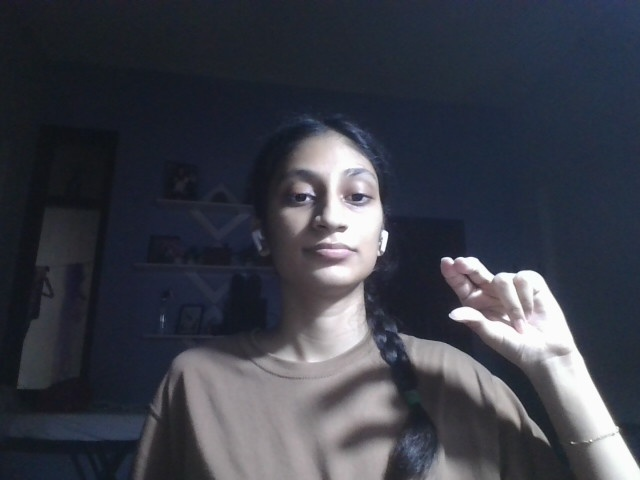no: (439, 256, 584, 363)
